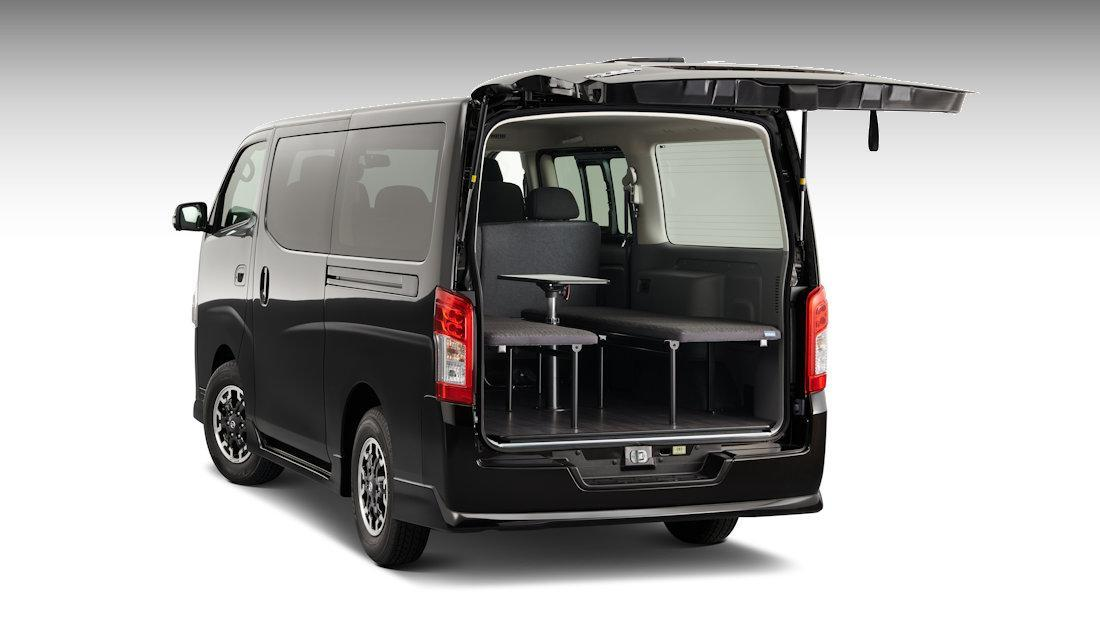Van: (191, 58, 953, 547)
